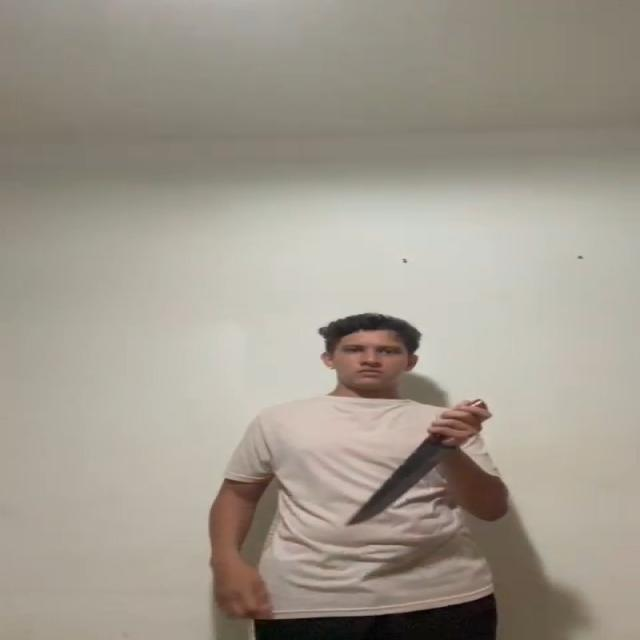knife: (350, 442, 448, 522)
